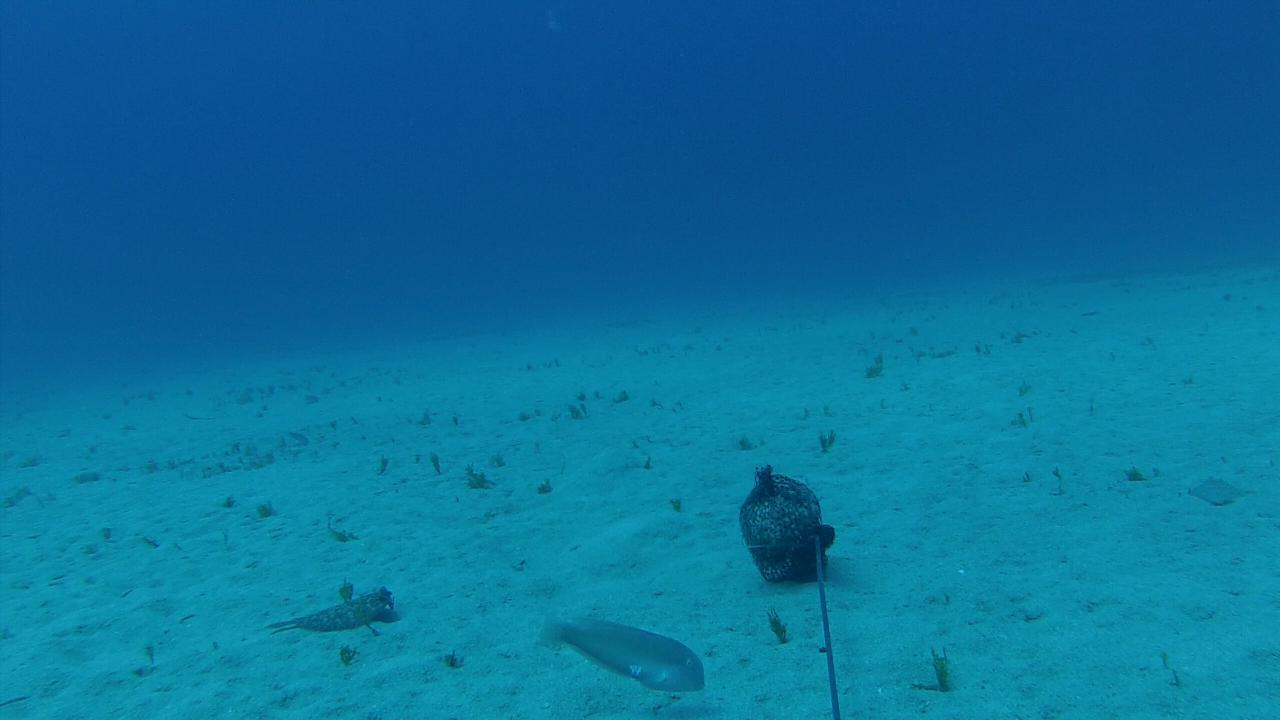bothus: (258, 582, 398, 636), (1184, 476, 1256, 507)
raor: (535, 609, 709, 701)
